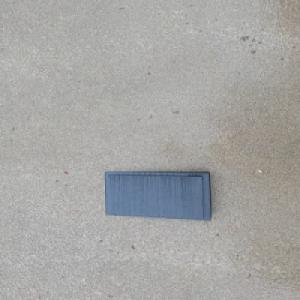PlasticPart: (103, 170, 213, 221)
